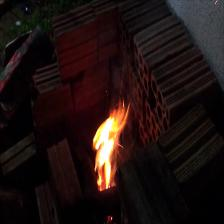fire: (83, 76, 147, 200)
